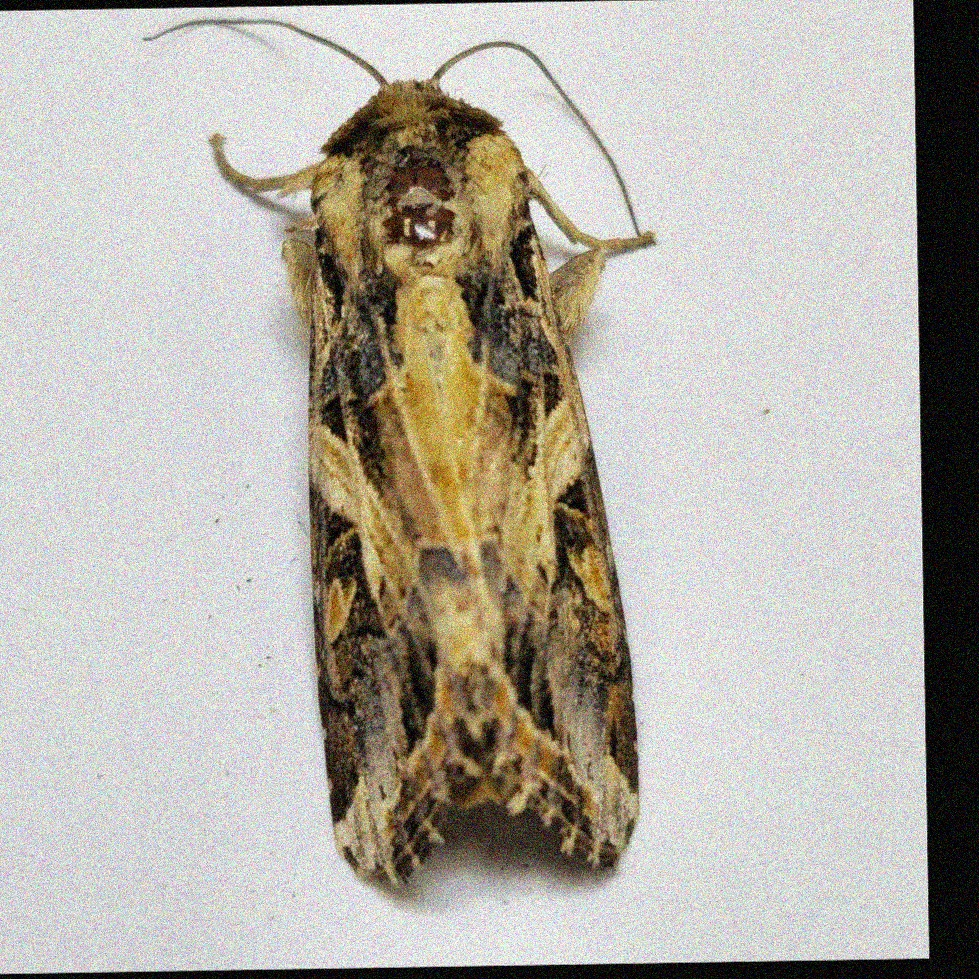Spodoptera litura: (149, 12, 660, 891)
